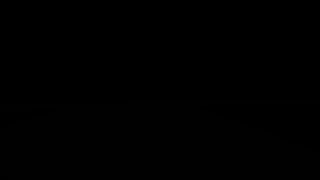turn_left: (198, 49, 217, 69)
